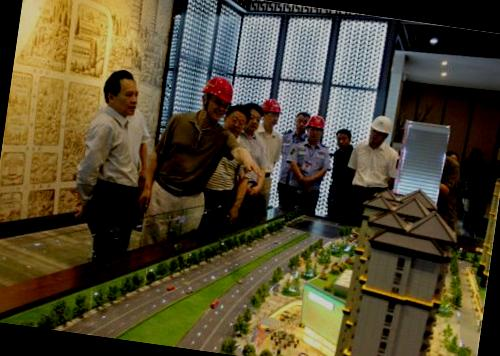no_helmet: (98, 66, 144, 118), (220, 103, 249, 143), (236, 100, 264, 140), (332, 126, 355, 154), (293, 109, 313, 136)
